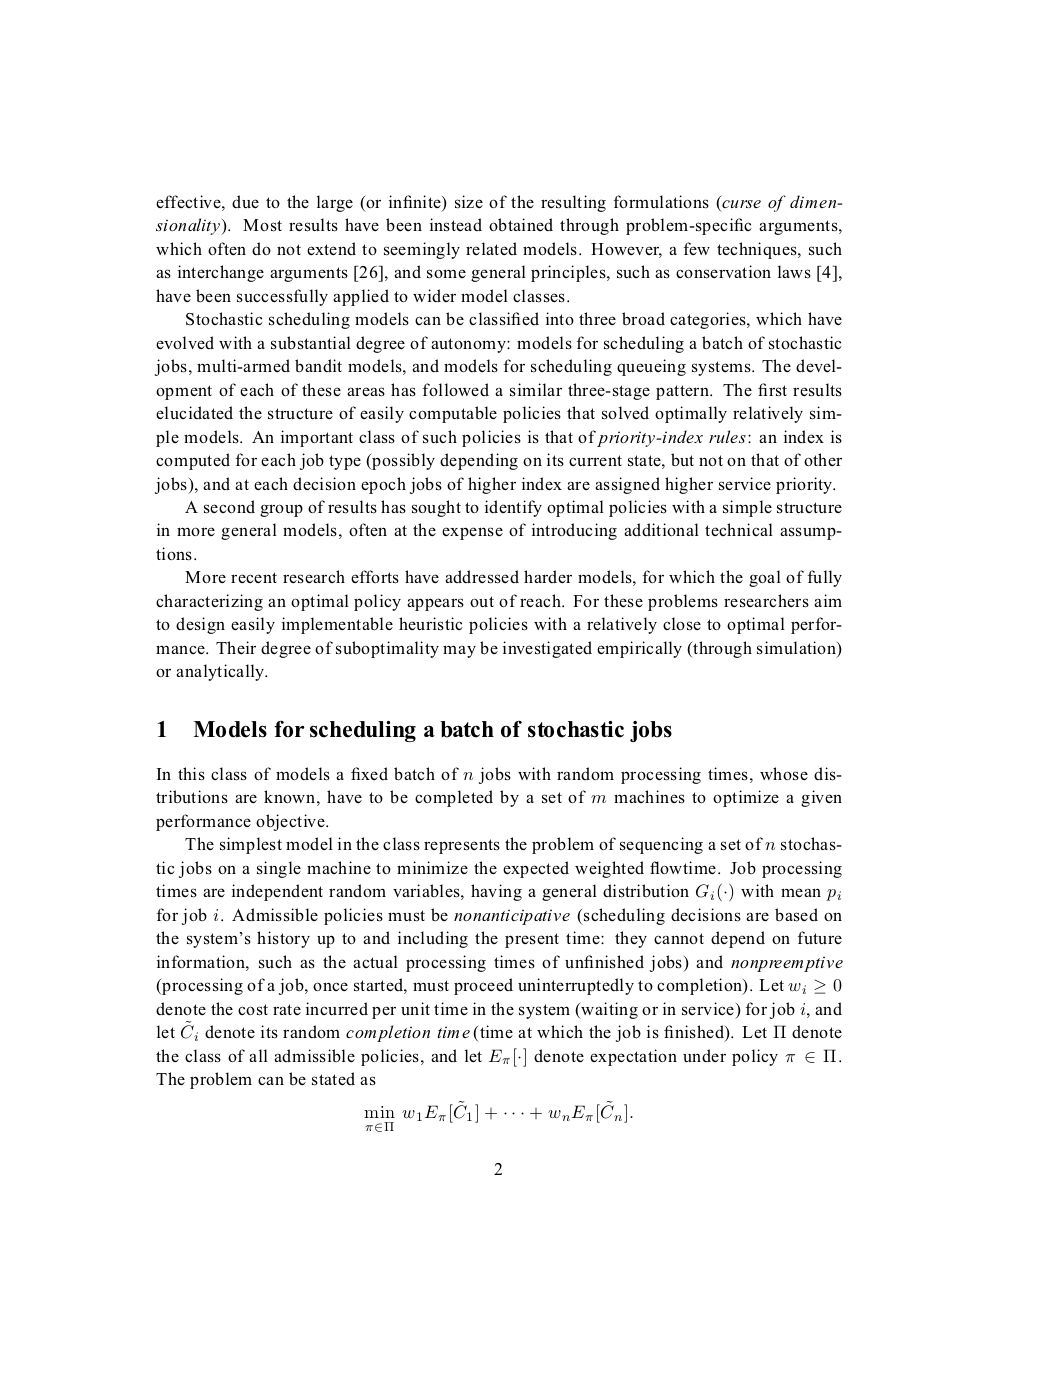formula: (364, 1100, 632, 1132)
